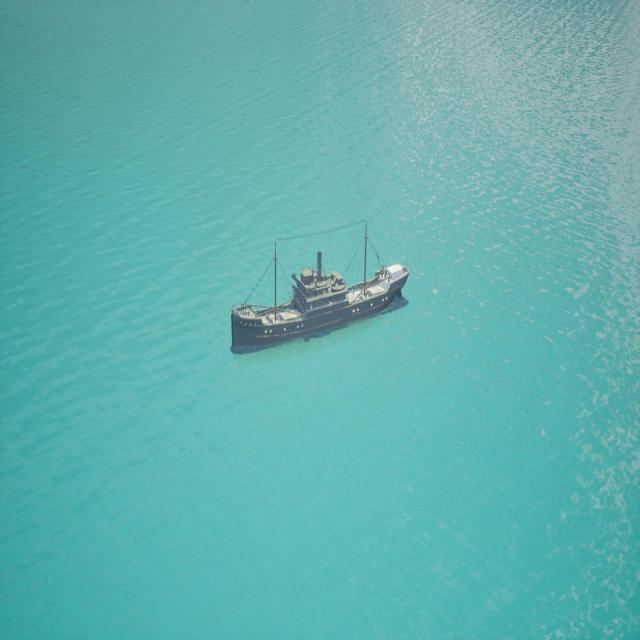fishing ship: (231, 239, 410, 353)
